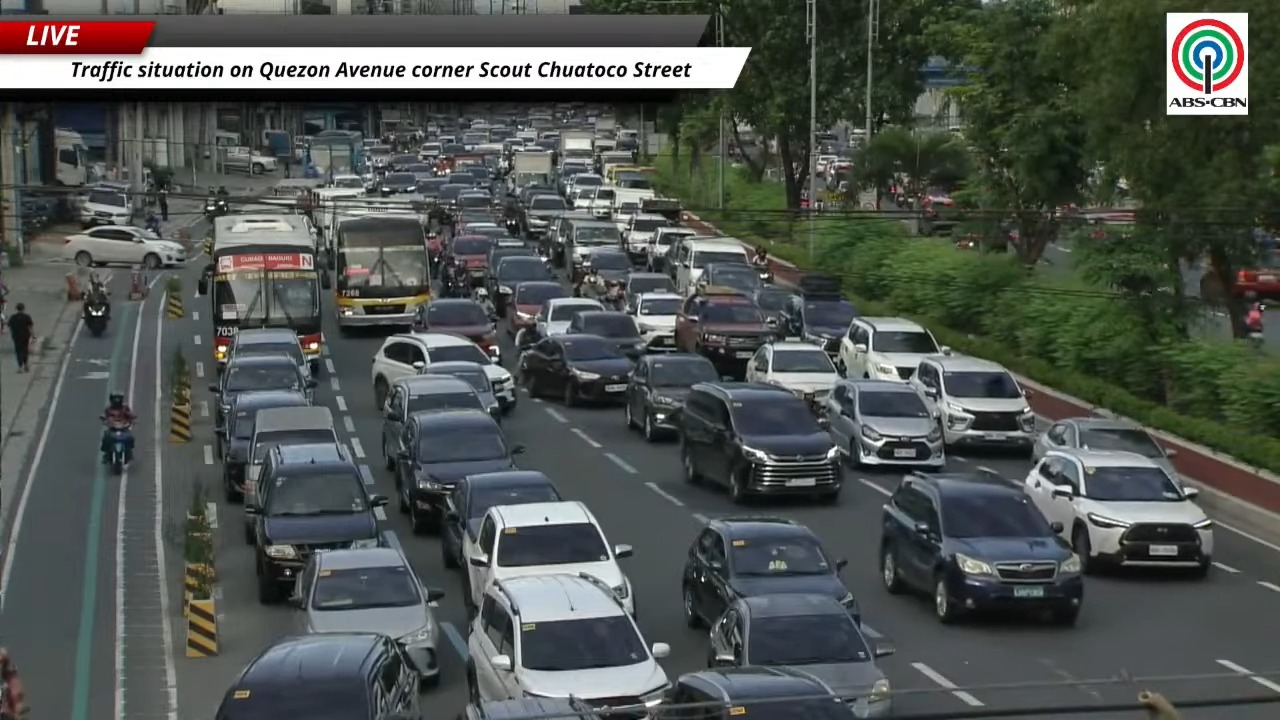bus: (198, 213, 329, 374), (332, 206, 429, 331)
car: (880, 472, 1083, 624), (467, 573, 669, 706), (1025, 449, 1213, 577), (708, 593, 892, 717), (245, 444, 386, 603), (290, 547, 443, 687), (675, 382, 842, 503), (682, 516, 860, 627), (464, 501, 634, 614), (214, 632, 419, 719), (395, 410, 523, 533), (907, 355, 1035, 451), (441, 470, 562, 567), (371, 333, 516, 412), (380, 374, 493, 470), (655, 666, 857, 719), (825, 379, 944, 468), (215, 390, 309, 501), (241, 406, 339, 505), (675, 286, 776, 376), (1032, 416, 1176, 477), (624, 353, 719, 441), (519, 334, 632, 405), (210, 353, 316, 426), (837, 317, 949, 380), (781, 274, 857, 358), (746, 341, 840, 403), (62, 224, 186, 269), (413, 298, 499, 359), (415, 361, 500, 421), (669, 237, 749, 295), (225, 328, 319, 375), (566, 310, 646, 359), (490, 254, 553, 316), (458, 696, 615, 719), (506, 280, 568, 337), (566, 220, 620, 281), (628, 293, 683, 351), (529, 297, 603, 339), (79, 182, 133, 228), (622, 212, 670, 262), (448, 234, 495, 285), (643, 227, 696, 272), (698, 260, 764, 295), (521, 193, 568, 239), (752, 285, 794, 336), (579, 248, 631, 284), (624, 272, 674, 305), (489, 237, 539, 269), (611, 201, 638, 249), (378, 172, 417, 196)
motorcycle: (104, 423, 131, 474), (83, 297, 108, 337), (203, 197, 227, 218), (753, 261, 773, 283)
truck: (307, 130, 363, 177), (54, 129, 90, 186), (220, 146, 276, 174), (511, 150, 552, 187), (559, 130, 594, 161), (262, 129, 293, 162), (595, 116, 616, 138)
